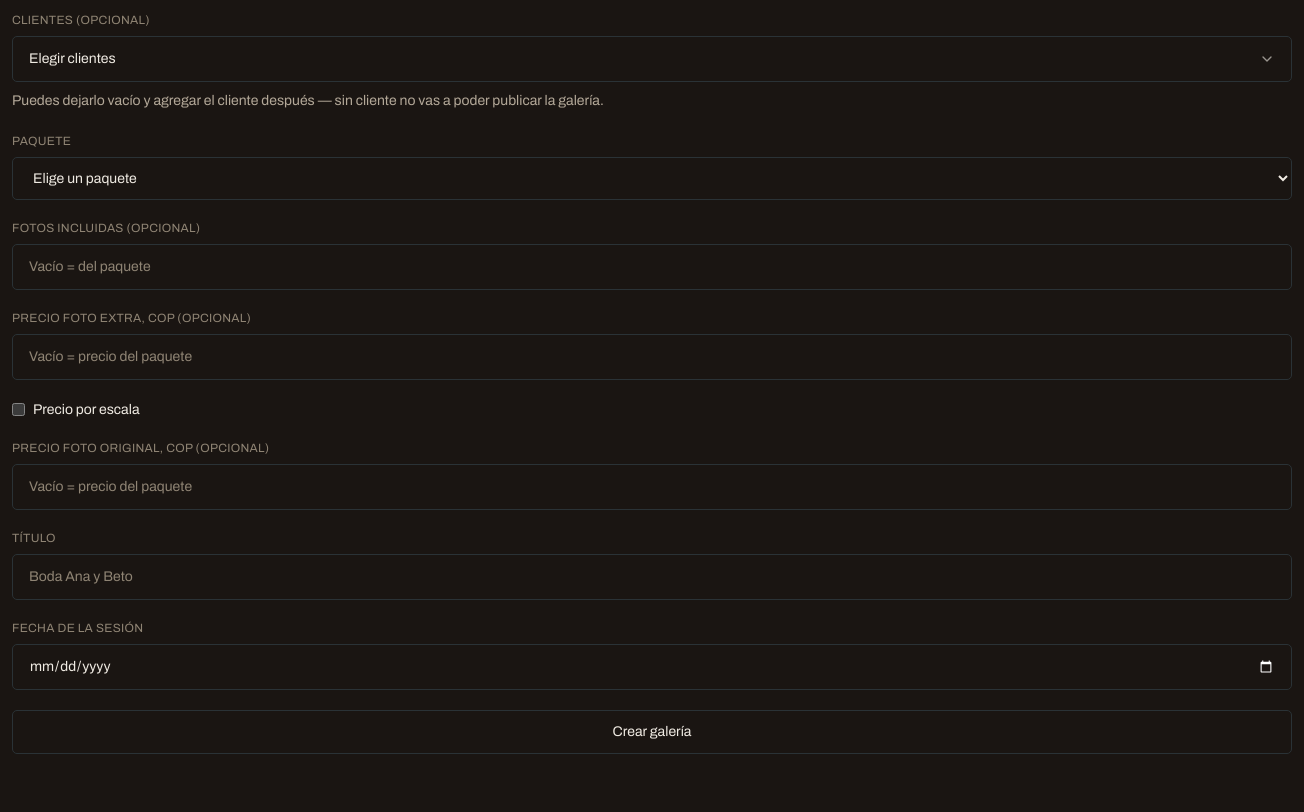
GalleryForm › leaves both override fields empty in the submitted form data when the photographer never touches them
Select "Estándar · 13 fotos incluidas" in the dropdown labelled "Paquete" at (652, 178), box [12,157,1292,200]
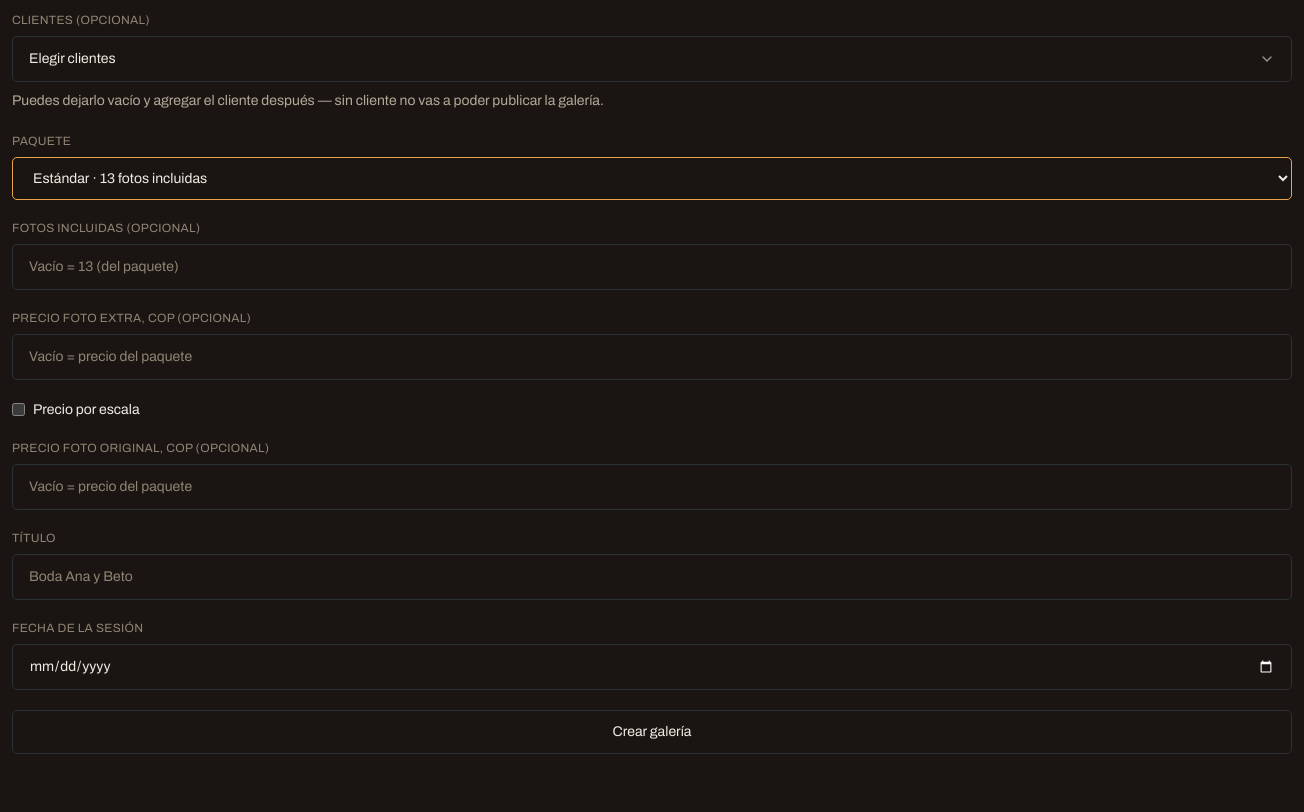
Type "Boda sin override" into the field labelled "Título" at (652, 577), box [12,554,1292,600]
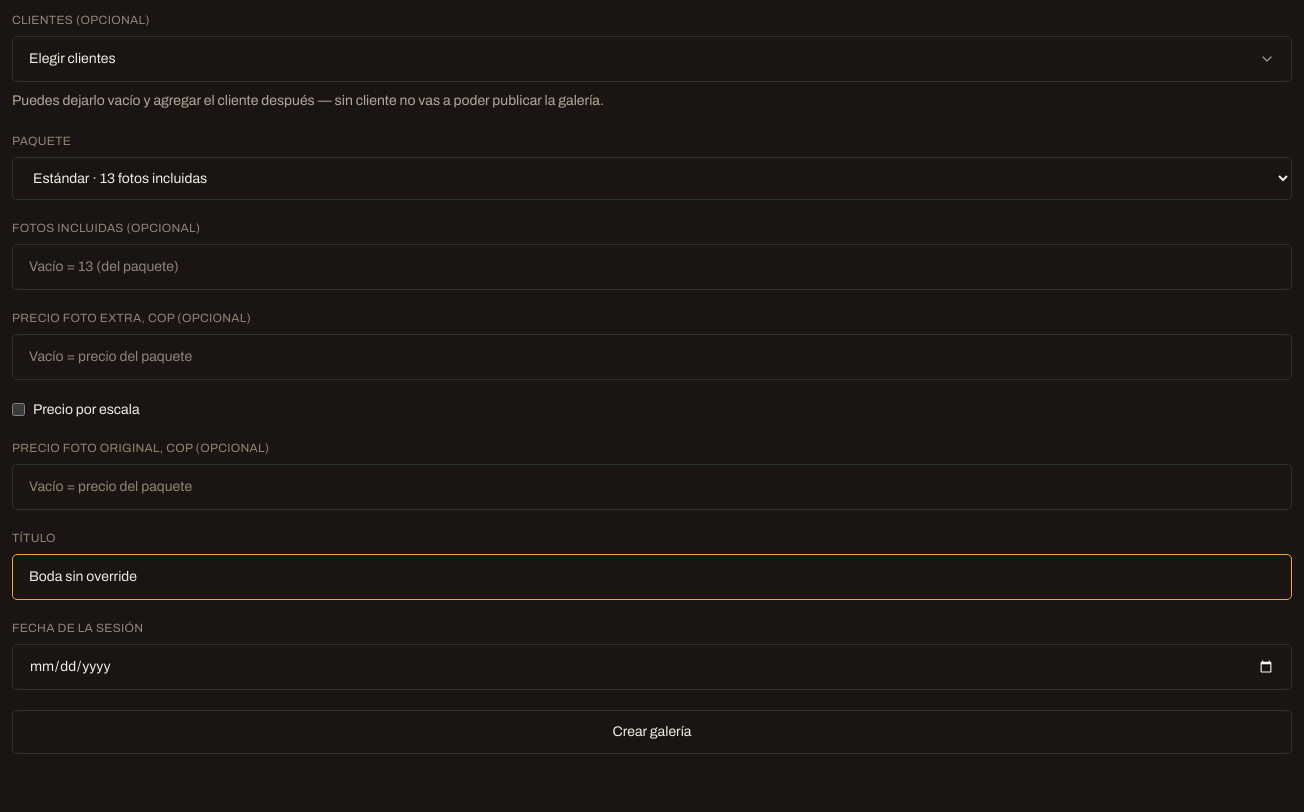
Type "2026-08-01" into the date field labelled "Fecha de la sesión" at (652, 667), box [12,644,1292,690]
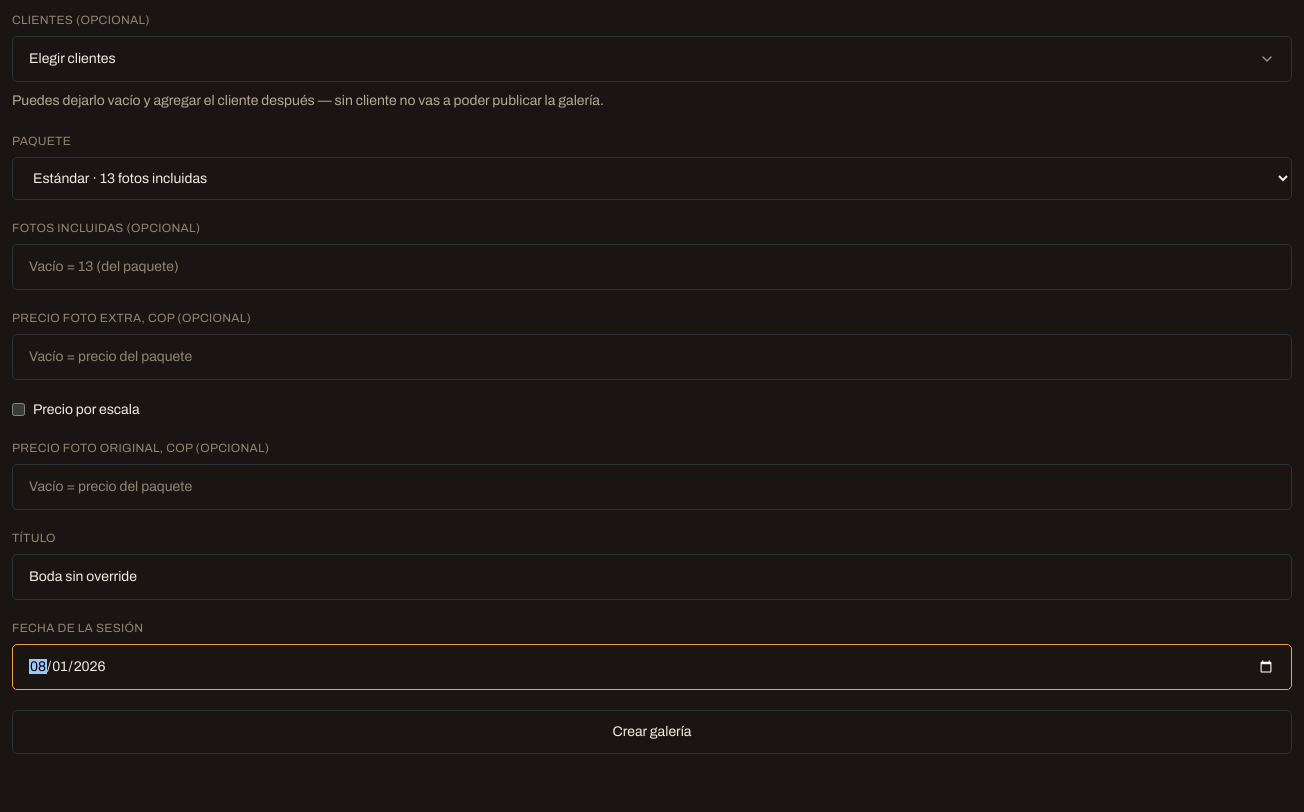
Click the button "Crear galería" at (652, 732), box [12,710,1292,754]
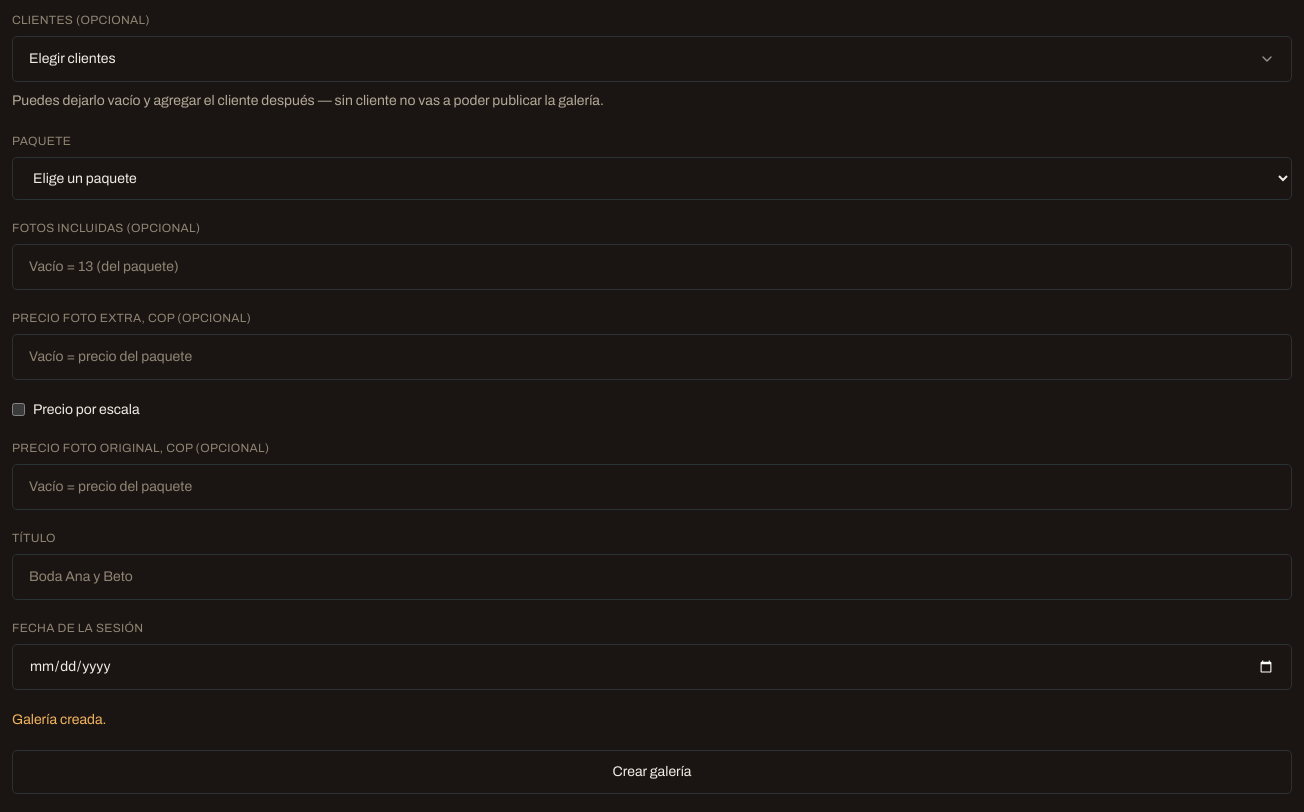
Result: the text "Galería creada." is shown at [12,712,106,727]
